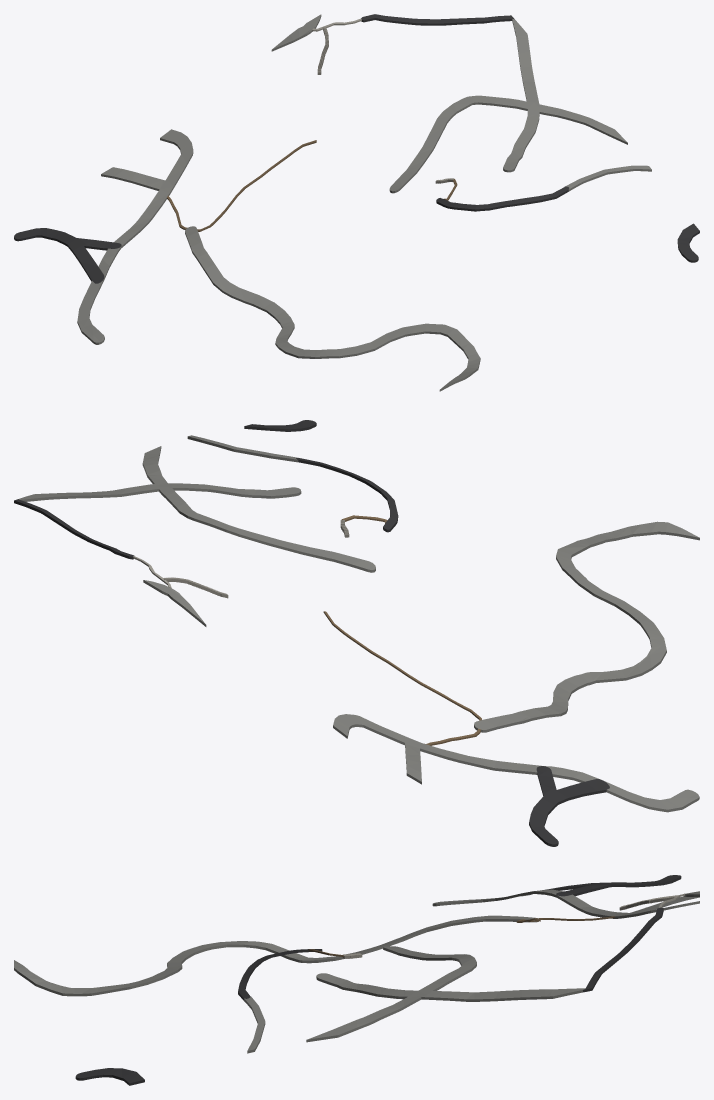
3 renders of one model, top to bottom at view 1: azimuth 30°, elevation 25°; view 2: azimuth 150°, elevation 25°; view 3: azimuth 270°, elevation 25°, orthographic. The views are drawn at different scales.
Size of the model in its own units: 289 by 99.62 by 292.
